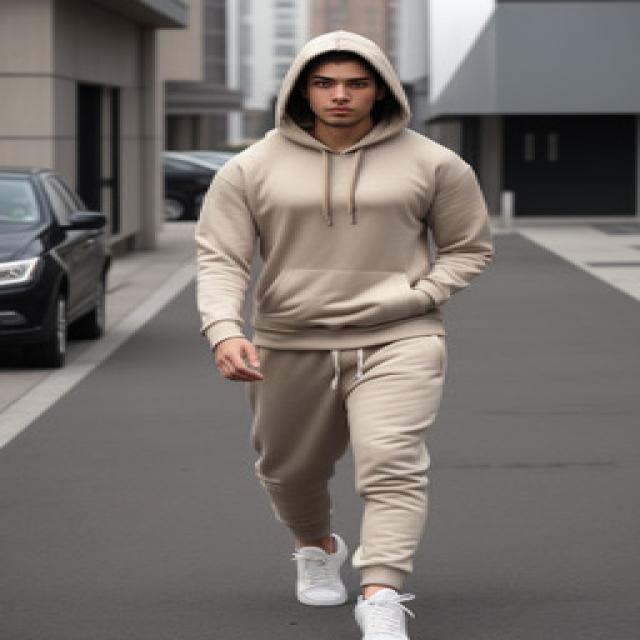Ai human 2: (170, 21, 505, 640)
